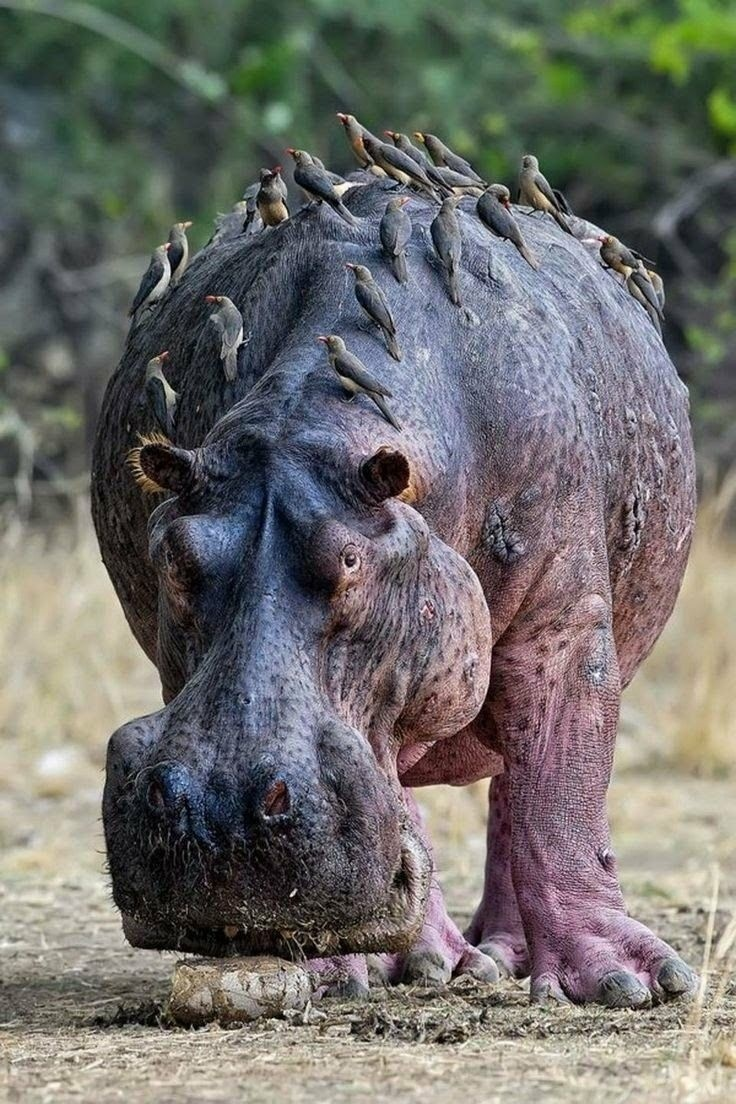hipopotamo: (65, 102, 717, 1033)
